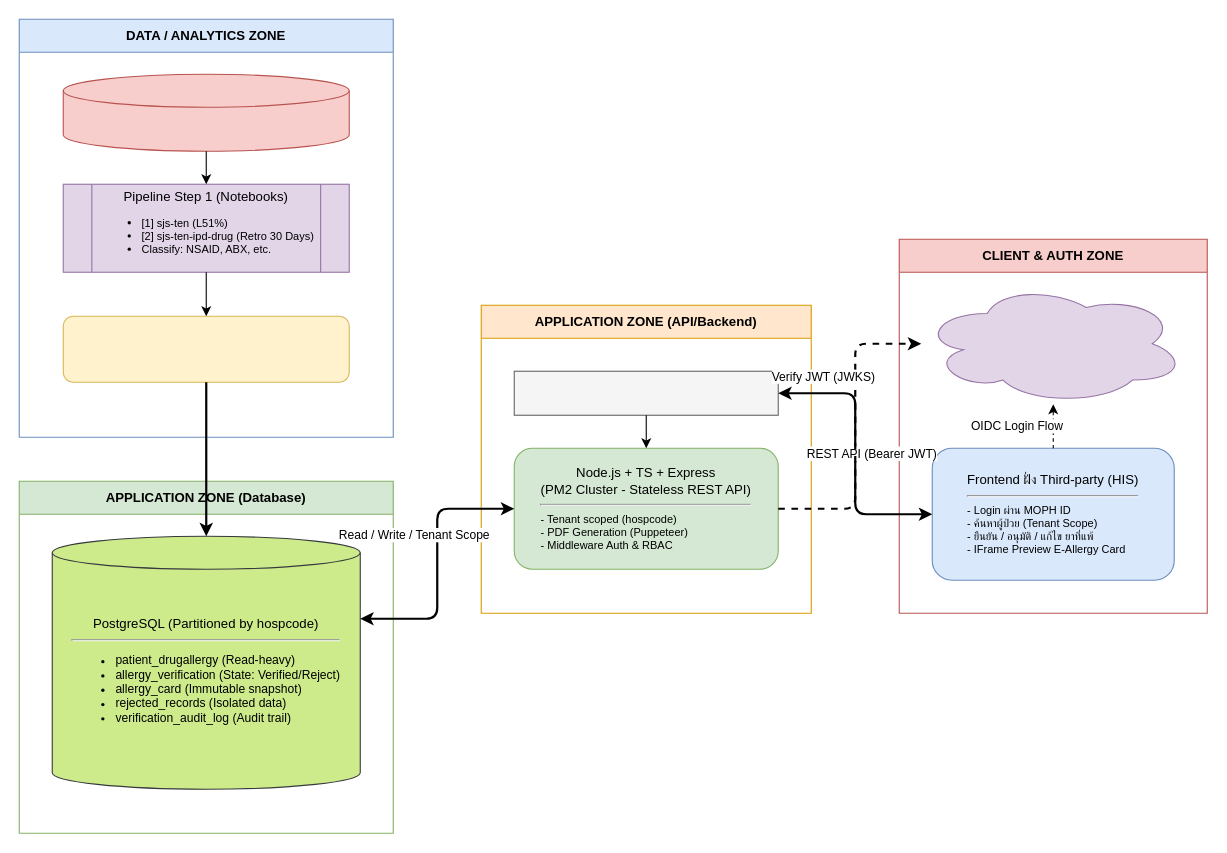
This 1227x853 diagram has some shape labels left out. The shapes that lost their labels are listed below. From the top down, each one's centre as x and y in pixels, then its label:
the point at 205,112: HDC DuckDB (db.db) person, drug_opd, drug_ipd, diagnosis_ipd
the point at 205,348: ETL Loader (Production Script) Cronjob ทุก 24 ชม. (Idempotent UPSERT)
the point at 1052,343: MOPH Provider ID (OIDC) JWT with hospcode & role (Doctor/Pharmacist)
the point at 645,392: Nginx (Reverse Proxy / WAF / TLS)
